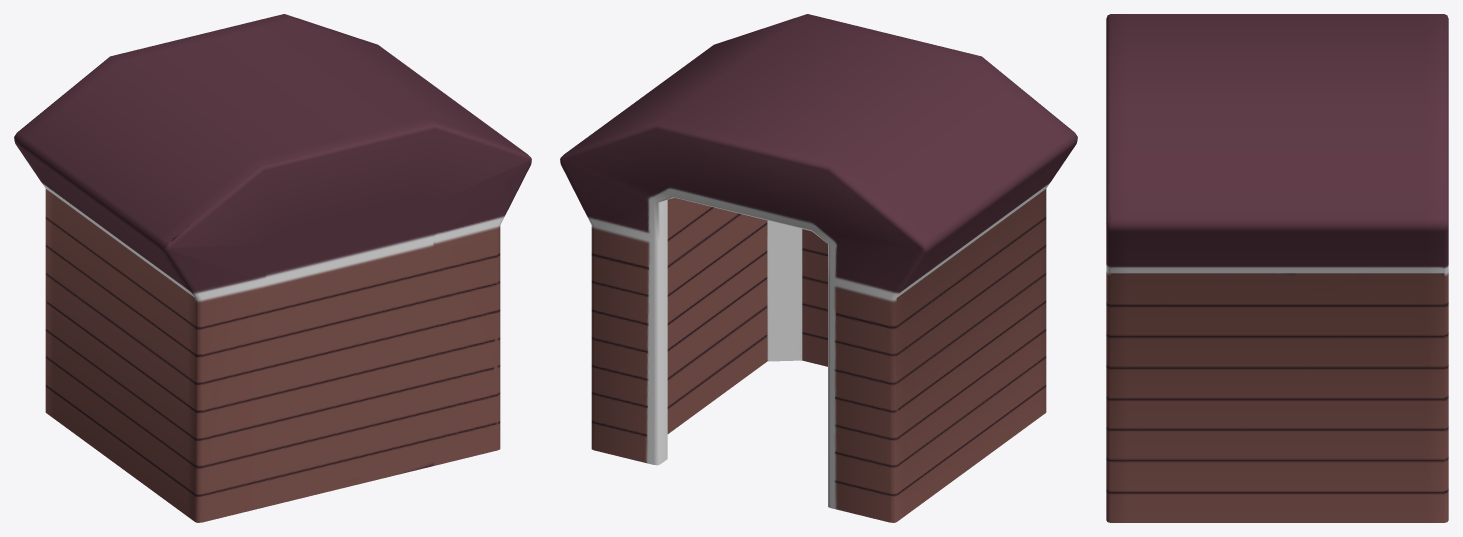
File: ShedV3.fbx
The picture shows the model from 3 angles, left to right: view 1: azimuth 30°, elevation 25°; view 2: azimuth 150°, elevation 25°; view 3: azimuth 270°, elevation 25°; orthographic projection. The views are drawn at different scales.
Parts seen in each view (by area): view 1: ShedV3; view 2: ShedV3; view 3: ShedV3.
Part boxes in pixels (x1=…): ShedV3: x1=14, y1=14, x2=531, y2=522; ShedV3: x1=560, y1=14, x2=1077, y2=522; ShedV3: x1=1106, y1=14, x2=1448, y2=522.
Size of the model in its own units: 552 by 489 by 400.
Materials: 1 (1 with a texture image).
